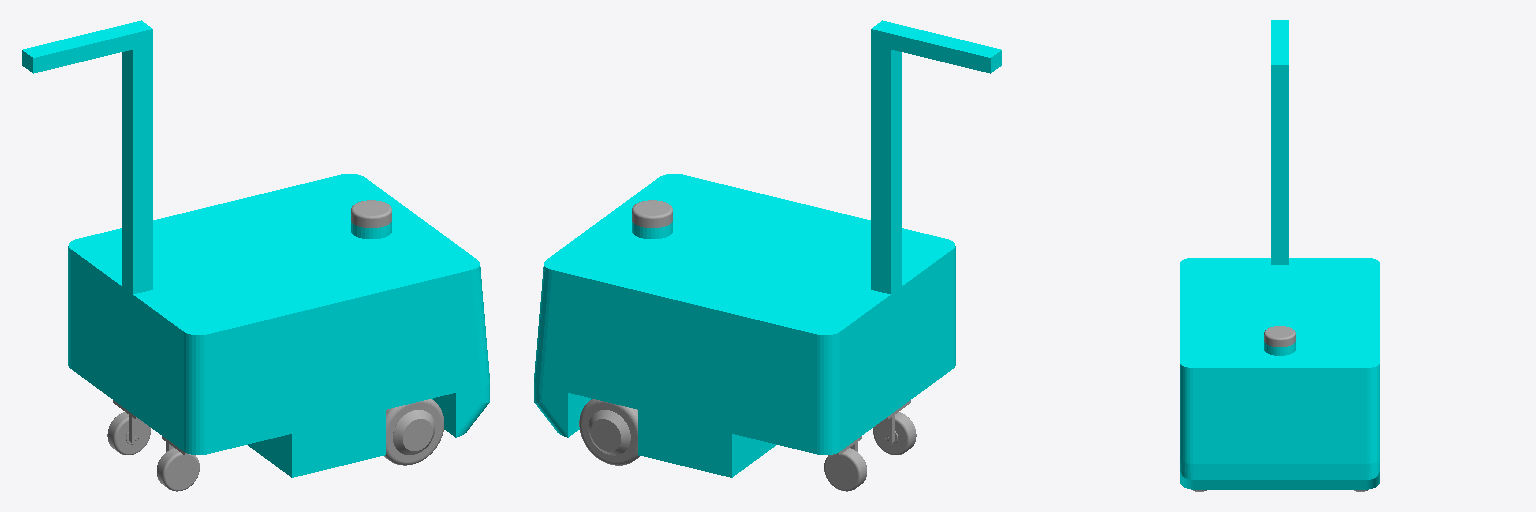
robot.urdf — VICA:
<?xml version="1.0" ?>
<!-- =================================================================================== -->
<!-- |    This document was autogenerated by xacro from urdf/VICA.xacro                | -->
<!-- |    EDITING THIS FILE BY HAND IS NOT RECOMMENDED                                 | -->
<!-- =================================================================================== -->
<robot name="VICA">
  <material name="body_blue">
    <color rgba="0 1.0 1.0 1.0"/>
  </material>
  <material name="silver">
    <color rgba="0.70 0.70 0.70 1.0"/>
  </material>
  <link name="base_footprint"/>
  <joint name="base_footprint_joint" type="fixed">
    <origin rpy="0 0 0" xyz="0 0 0.19"/>
    <parent link="base_footprint"/>
    <child link="base_link"/>
  </joint>
  <link name="base_link">
    <inertial>
      <origin rpy="0 0 0" xyz="0.004031215194176557 3.002726997808124e-17 0.00856562657816282"/>
      <mass value="90.84709962539795"/>
      <inertia ixx="2.402108" ixy="0.0" ixz="0.343284" iyy="3.622523" iyz="-0.0" izz="4.166828"/>
    </inertial>
    <visual>
      <origin rpy="0 0 0" xyz="0 0 -0.0675"/>
      <geometry>
        <mesh filename="package://vica_description/meshes/base_link.stl" scale="0.001 0.001 0.001"/>
      </geometry>
      <material name="body_blue"/>
    </visual>
    <collision>
      <origin rpy="0 0 0" xyz="0 0 -0.0675"/>
      <geometry>
        <mesh filename="package://vica_description/meshes/base_link.stl" scale="0.001 0.001 0.001"/>
      </geometry>
    </collision>
  </link>
  <link name="left_wheel_1">
    <inertial>
      <origin rpy="0 0 0" xyz="2.0539125955565396e-15 0.03668765550201605 0.0"/>
      <mass value="0.5663250710944822"/>
      <inertia ixx="0.000634" ixy="0.0" ixz="0.0" iyy="0.001025" iyz="-0.0" izz="0.000634"/>
    </inertial>
    <visual>
      <origin rpy="0 0 0" xyz="-0.154 -0.1465 0.084"/>
      <geometry>
        <mesh filename="package://vica_description/meshes/left_wheel_1.stl" scale="0.001 0.001 0.001"/>
      </geometry>
      <material name="silver"/>
    </visual>
    <collision>
      <origin rpy="0 0 0" xyz="-0.154 -0.1465 0.084"/>
      <geometry>
        <mesh filename="package://vica_description/meshes/left_wheel_1.stl" scale="0.001 0.001 0.001"/>
      </geometry>
    </collision>
  </link>
  <link name="right_wheel_1">
    <inertial>
      <origin rpy="0 0 0" xyz="-0.00046568184733652984 -0.03568765550201608 0.0009570426748952837"/>
      <mass value="0.5663250710944814"/>
      <inertia ixx="0.000634" ixy="0.0" ixz="-0.0" iyy="0.001025" iyz="0.0" izz="0.000634"/>
    </inertial>
    <visual>
      <origin rpy="0 0 0" xyz="-0.154 0.1465 0.084"/>
      <geometry>
        <mesh filename="package://vica_description/meshes/right_wheel_1.stl" scale="0.001 0.001 0.001"/>
      </geometry>
      <material name="silver"/>
    </visual>
    <collision>
      <origin rpy="0 0 0" xyz="-0.154 0.1465 0.084"/>
      <geometry>
        <mesh filename="package://vica_description/meshes/right_wheel_1.stl" scale="0.001 0.001 0.001"/>
      </geometry>
    </collision>
  </link>
  <link name="front_left_caster_wheel_1">
    <inertial>
      <origin rpy="0 0 0" xyz="-1.6653345369377348e-15 0.01574568542726719 0.0"/>
      <mass value="0.11451893837110633"/>
      <inertia ixx="4.7e-05" ixy="-0.0" ixz="0.0" iyy="7.8e-05" iyz="0.0" izz="4.7e-05"/>
    </inertial>
    <visual>
      <origin rpy="0 0 0" xyz="0.252 -0.0695 0.107"/>
      <geometry>
        <mesh filename="package://vica_description/meshes/front_left_caster_wheel_1.stl" scale="0.001 0.001 0.001"/>
      </geometry>
      <material name="silver"/>
    </visual>
    <collision>
      <origin rpy="0 0 0" xyz="0.252 -0.0695 0.107"/>
      <geometry>
        <mesh filename="package://vica_description/meshes/front_left_caster_wheel_1.stl" scale="0.001 0.001 0.001"/>
      </geometry>
    </collision>
  </link>
  <link name="front_right_caster_wheel_1">
    <inertial>
      <origin rpy="0 0 0" xyz="5.162537064506978e-15 -0.015745685427267203 0.0"/>
      <mass value="0.11451893837110629"/>
      <inertia ixx="4.7e-05" ixy="-0.0" ixz="-0.0" iyy="7.8e-05" iyz="0.0" izz="4.7e-05"/>
    </inertial>
    <visual>
      <origin rpy="0 0 0" xyz="0.252 0.0695 0.107"/>
      <geometry>
        <mesh filename="package://vica_description/meshes/front_right_caster_wheel_1.stl" scale="0.001 0.001 0.001"/>
      </geometry>
      <material name="silver"/>
    </visual>
    <collision>
      <origin rpy="0 0 0" xyz="0.252 0.0695 0.107"/>
      <geometry>
        <mesh filename="package://vica_description/meshes/front_right_caster_wheel_1.stl" scale="0.001 0.001 0.001"/>
      </geometry>
    </collision>
  </link>
  <link name="front_right_caster_steer_1">
    <inertial>
      <origin rpy="0 0 0" xyz="-0.004080894044594496 0.0037449849629774684 -0.017666622102230287"/>
      <mass value="0.9536308497491053"/>
      <inertia ixx="0.000637" ixy="4e-05" ixz="-8.2e-05" iyy="0.000626" iyz="8.5e-05" izz="0.000908"/>
    </inertial>
    <visual>
      <origin rpy="0 0 0" xyz="0.222 0.0845 0.0415"/>
      <geometry>
        <mesh filename="package://vica_description/meshes/front_right_caster_steer_1.stl" scale="0.001 0.001 0.001"/>
      </geometry>
      <material name="silver"/>
    </visual>
    <collision>
      <origin rpy="0 0 0" xyz="0.222 0.0845 0.0415"/>
      <geometry>
        <mesh filename="package://vica_description/meshes/front_right_caster_steer_1.stl" scale="0.001 0.001 0.001"/>
      </geometry>
    </collision>
  </link>
  <link name="front_left_caster_steer_1">
    <inertial>
      <origin rpy="0 0 0" xyz="-0.004080894044594496 -0.003744984962977496 -0.017666622102230287"/>
      <mass value="0.9536308497491053"/>
      <inertia ixx="0.000637" ixy="-4e-05" ixz="-8.2e-05" iyy="0.000626" iyz="-8.5e-05" izz="0.000908"/>
    </inertial>
    <visual>
      <origin rpy="0 0 0" xyz="0.222 -0.0845 0.0415"/>
      <geometry>
        <mesh filename="package://vica_description/meshes/front_left_caster_steer_1.stl" scale="0.001 0.001 0.001"/>
      </geometry>
      <material name="silver"/>
    </visual>
    <collision>
      <origin rpy="0 0 0" xyz="0.222 -0.0845 0.0415"/>
      <geometry>
        <mesh filename="package://vica_description/meshes/front_left_caster_steer_1.stl" scale="0.001 0.001 0.001"/>
      </geometry>
    </collision>
  </link>
  <link name="laser_frame">
    <inertial>
      <origin rpy="0 0 0" xyz="0.0 0.0 0.010868727234877334"/>
      <mass value="0.16353480730457975"/>
      <inertia ixx="5.9e-05" ixy="0.0" ixz="-0.0" iyy="5.9e-05" iyz="-0.0" izz="0.000105"/>
    </inertial>
    <visual>
      <origin rpy="0 0 0" xyz="-0.185 -0.0 -0.258"/>
      <geometry>
        <mesh filename="package://vica_description/meshes/lidar_1.stl" scale="0.001 0.001 0.001"/>
      </geometry>
      <material name="silver"/>
    </visual>
    <collision>
      <origin rpy="0 0 0" xyz="-0.185 -0.0 -0.258"/>
      <geometry>
        <mesh filename="package://vica_description/meshes/lidar_1.stl" scale="0.001 0.001 0.001"/>
      </geometry>
    </collision>
  </link>
  <link name="camera_link"/>
  <link name="camera_optical_frame"/>
  <joint name="left_wheel_joint" type="continuous">
    <origin rpy="0 0 0" xyz="0.154 0.1465 -0.1515"/>
    <parent link="base_link"/>
    <child link="left_wheel_1"/>
    <axis xyz="0.0 1.0 0.0"/>
    <dynamics damping="0.1" friction="0.0"/>
    <limit effort="100.0" velocity="20.0"/>
  </joint>
  <joint name="right_wheel_joint" type="continuous">
    <origin rpy="0 0 0" xyz="0.154 -0.1465 -0.1515"/>
    <parent link="base_link"/>
    <child link="right_wheel_1"/>
    <axis xyz="0.0 1.0 0.0"/>
    <dynamics damping="0.1" friction="0.0"/>
    <limit effort="100.0" velocity="20.0"/>
  </joint>
  <joint name="front_left_caster_wheel_joint" type="continuous">
    <origin rpy="0 0 0" xyz="-0.03 -0.015 -0.0655"/>
    <parent link="front_left_caster_steer_1"/>
    <child link="front_left_caster_wheel_1"/>
    <axis xyz="0.0 -1.0 0.0"/>
    <dynamics damping="0.05" friction="0.0"/>
    <limit effort="10.0" velocity="20.0"/>
  </joint>
  <joint name="front_right_caster_wheel_joint" type="continuous">
    <origin rpy="0 0 0" xyz="-0.03 0.015 -0.0655"/>
    <parent link="front_right_caster_steer_1"/>
    <child link="front_right_caster_wheel_1"/>
    <axis xyz="0.0 -1.0 0.0"/>
    <dynamics damping="0.05" friction="0.0"/>
    <limit effort="10.0" velocity="20.0"/>
  </joint>
  <joint name="front_right_caster_steer_joint" type="continuous">
    <origin rpy="0 0 0" xyz="-0.222 -0.0845 -0.109"/>
    <parent link="base_link"/>
    <child link="front_right_caster_steer_1"/>
    <axis xyz="0.0 0.0 -1.0"/>
    <dynamics damping="0.05" friction="0.0"/>
    <limit effort="10.0" velocity="20.0"/>
  </joint>
  <joint name="front_left_caster_steer_joint" type="continuous">
    <origin rpy="0 0 0" xyz="-0.222 0.0845 -0.109"/>
    <parent link="base_link"/>
    <child link="front_left_caster_steer_1"/>
    <axis xyz="0.0 0.0 -1.0"/>
    <dynamics damping="0.05" friction="0.0"/>
    <limit effort="10.0" velocity="20.0"/>
  </joint>
  <!-- Sensor positions are expressed relative to the body-centered base_link. -->
  <joint name="laser_joint" type="fixed">
    <origin rpy="0 0 0" xyz="0.185 0.0 0.19"/>
    <parent link="base_link"/>
    <child link="laser_frame"/>
  </joint>
  <joint name="camera_joint" type="fixed">
    <origin rpy="0 0 0" xyz="0.28683 0.0 0.13"/>
    <parent link="base_link"/>
    <child link="camera_link"/>
  </joint>
  <!-- REP-103 optical convention: +Z forward, +X right, +Y down. -->
  <joint name="camera_optical_joint" type="fixed">
    <origin rpy="-1.5707963267948966 0 -1.5707963267948966" xyz="0 0 0"/>
    <parent link="camera_link"/>
    <child link="camera_optical_frame"/>
  </joint>
</robot>

--- What the picture shows (computed from the rendered views, not written in the file) ---
Views: 3 orthographic renders of the robot side by side, from view 1: azimuth 30°, elevation 25°; view 2: azimuth 150°, elevation 25°; view 3: azimuth 270°, elevation 25°.
Robot: VICA — 11 links, 10 joints (6 continuous, 4 fixed); root link base_footprint; default pose: all joints at 0.
Visible links, largest first — view 1: base_link, right_wheel_1, front_right_caster_wheel_1, laser_frame, front_left_caster_wheel_1; view 2: base_link, left_wheel_1, front_left_caster_wheel_1, laser_frame, front_right_caster_wheel_1; view 3: base_link, laser_frame.
Boxes of the visible links, x1,y1,x2,y2 form: base_link: (22, 20, 489, 477); right_wheel_1: (384, 399, 443, 465); front_right_caster_wheel_1: (157, 448, 199, 491); laser_frame: (351, 200, 391, 227); front_left_caster_wheel_1: (107, 412, 150, 454); base_link: (534, 20, 1001, 477); left_wheel_1: (579, 399, 639, 465); front_left_caster_wheel_1: (824, 448, 866, 491); laser_frame: (632, 200, 672, 227); front_right_caster_wheel_1: (873, 412, 916, 454); base_link: (1180, 20, 1379, 489); laser_frame: (1264, 326, 1295, 346).
Size in the robot's own frame: 0.81 by 0.453 by 0.863 metres.
8 mesh visuals loaded from 8 distinct referenced files (8 binary STL).
